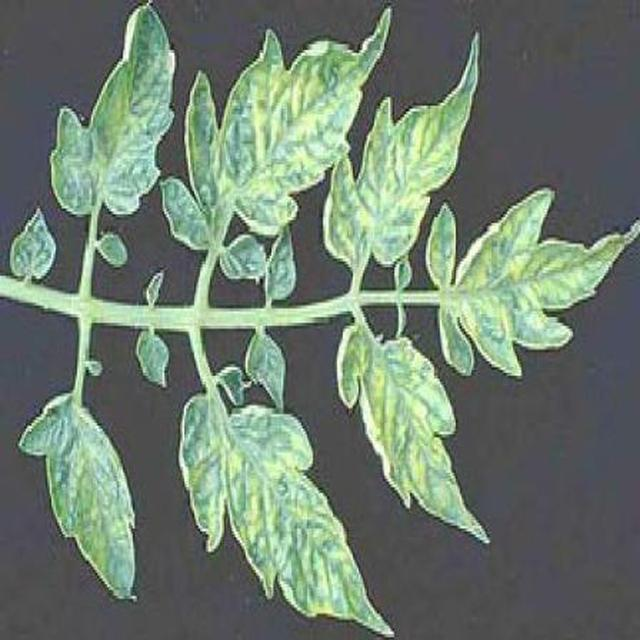Mosaic Virus Leaf: (113, 161, 640, 640)
